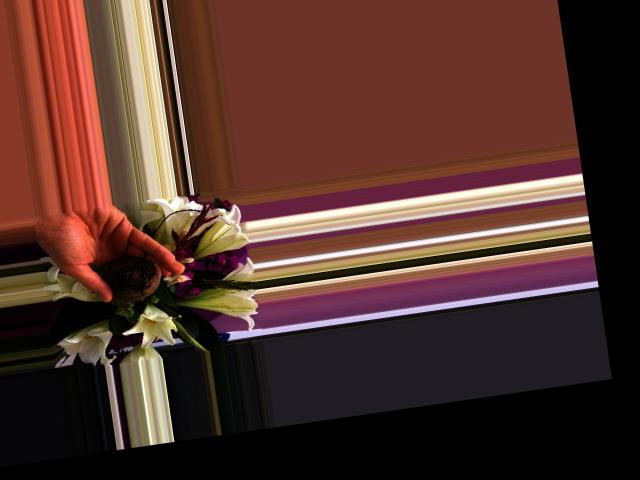beet: (102, 250, 165, 304)
